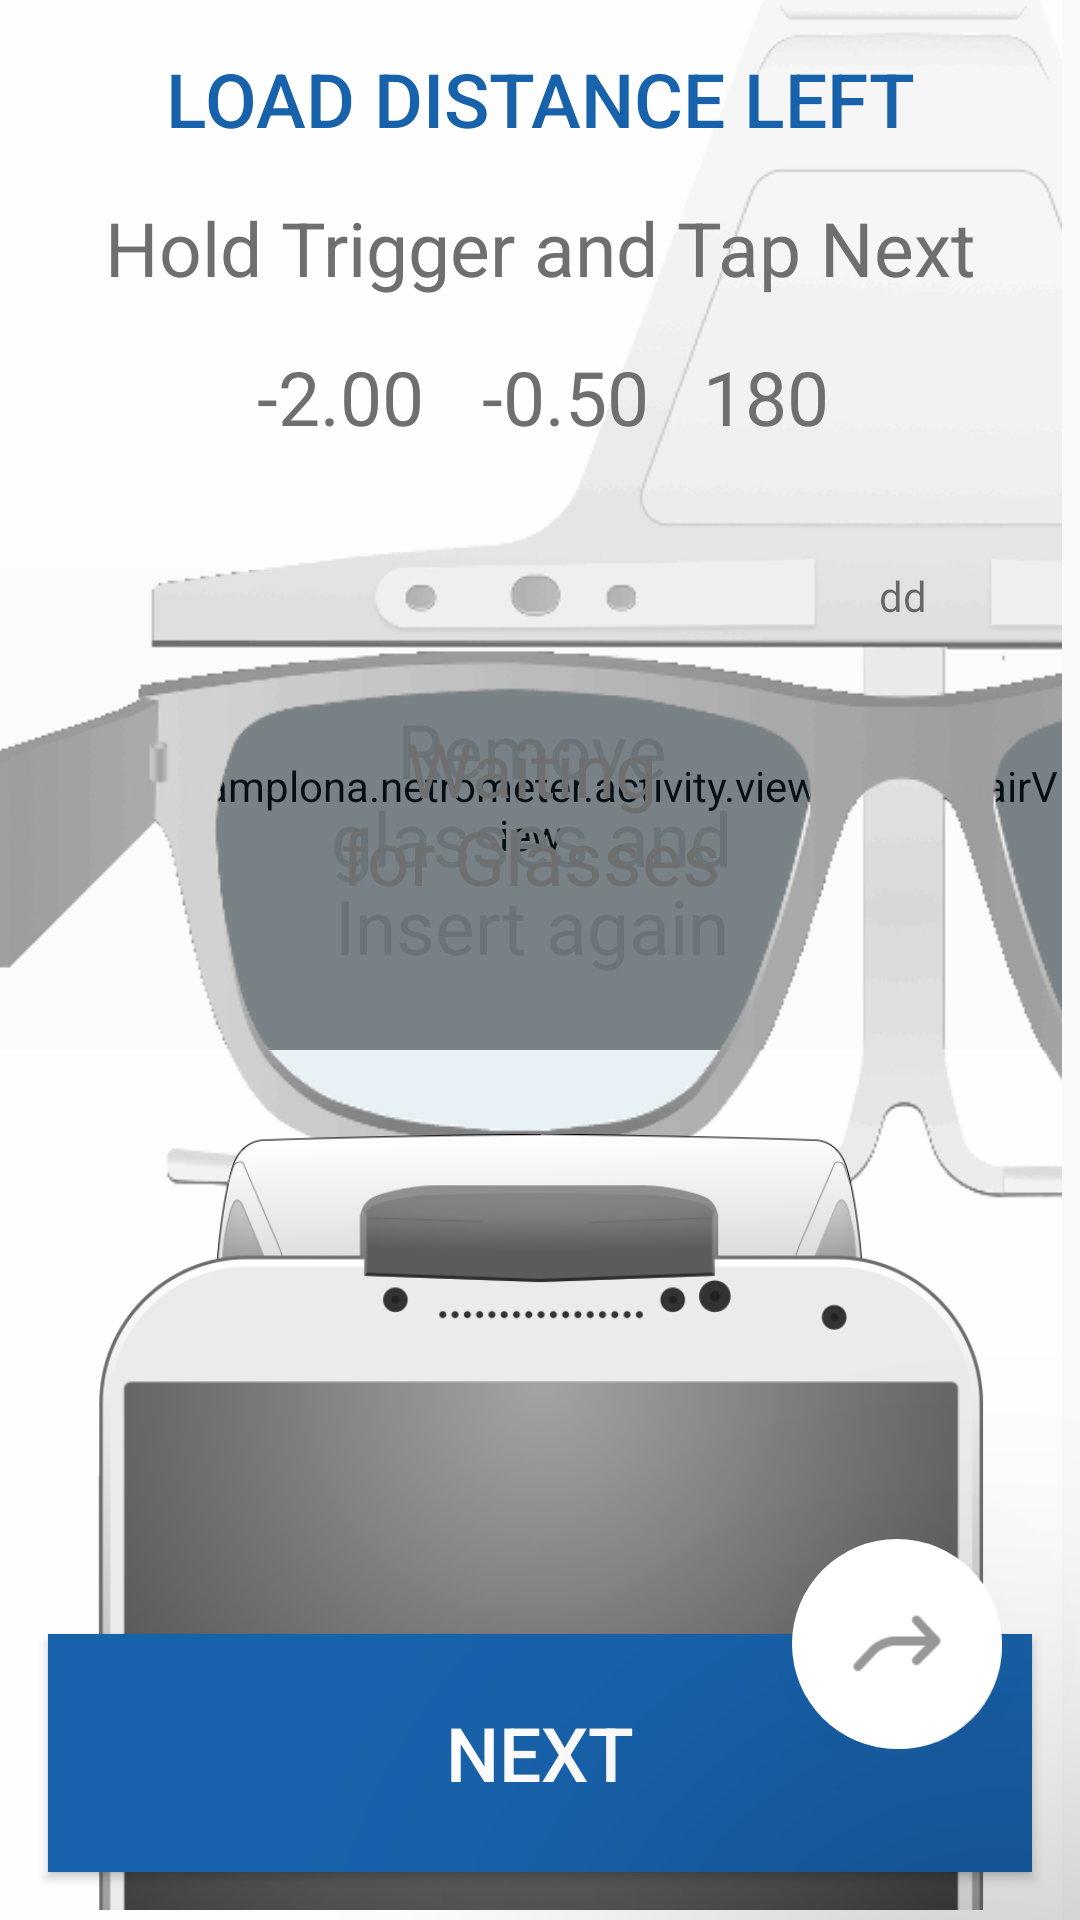

Named icons in this screenshot (1080 x 1920) and their centers, point (x, y):
skip: point (897, 1644)
